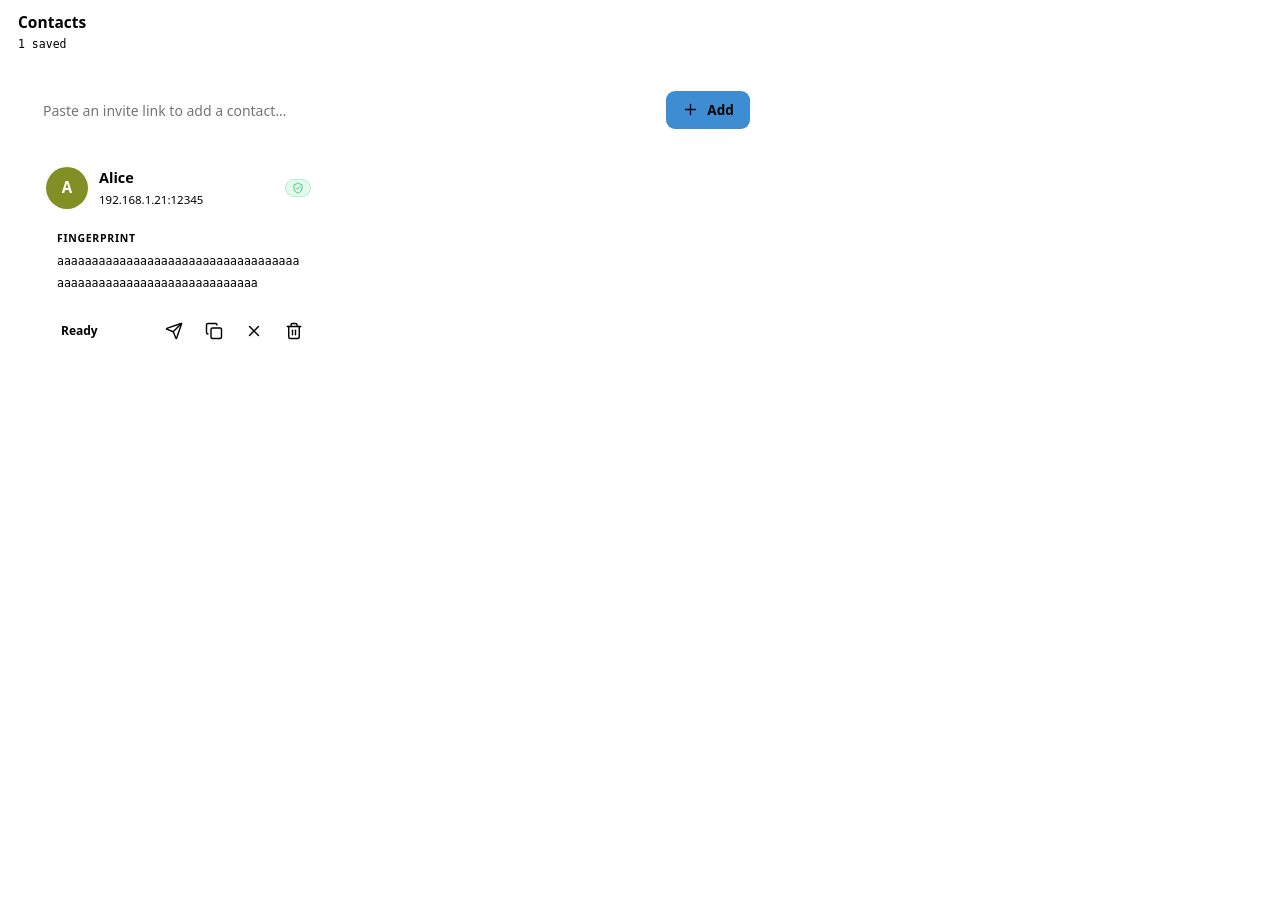
Test: Contacts › can be cancelled without deleting anything
Expected: the text "Alice" is shown, [99,167,134,187]
Step 1. Click the button named "Delete contact" → coordinates (294, 331), box [277,314,311,348]
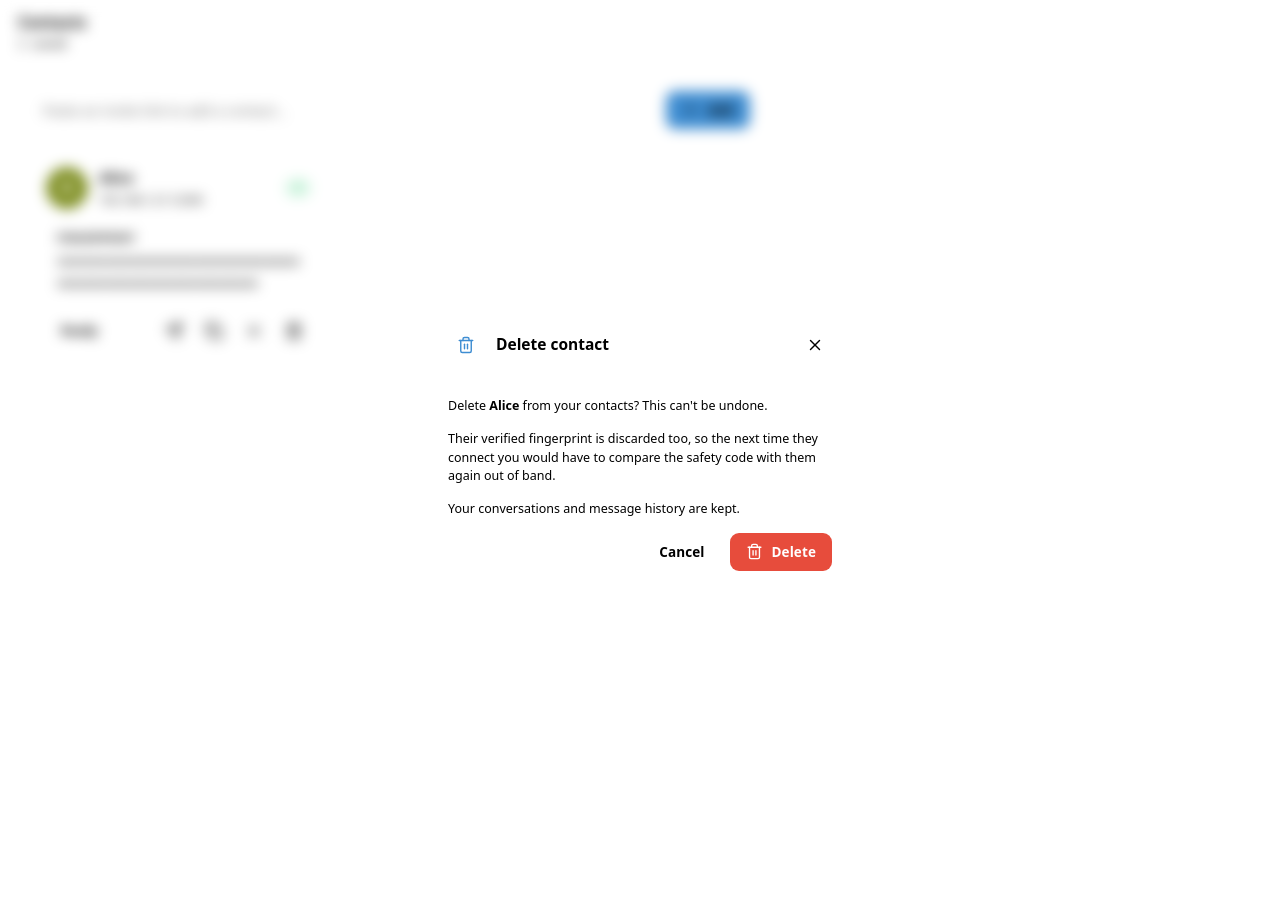
Step 2. Click the button "Cancel" → coordinates (682, 552), box [643,533,720,571]
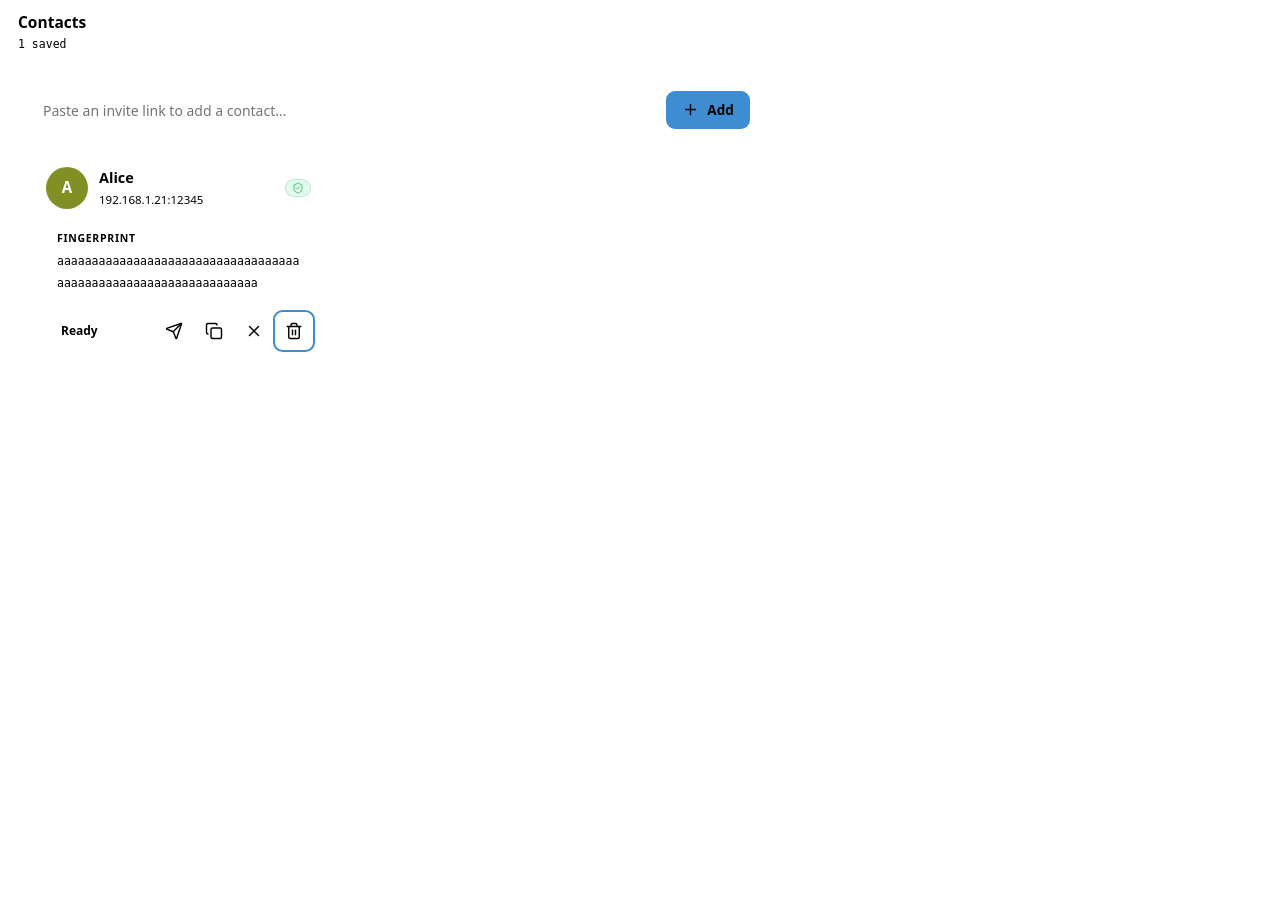
Result: the dialog is gone
